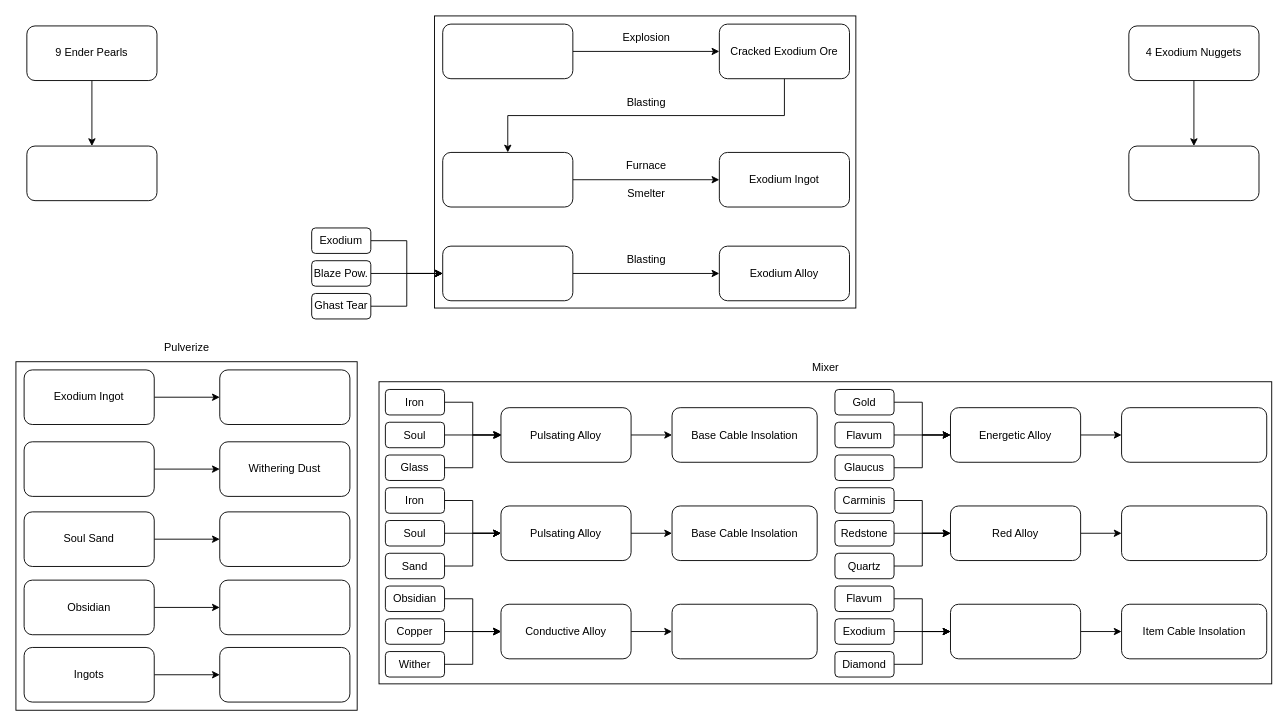
This 1288x726 diagram has some shape labels left out. The shapes that lost their labels are listed below. From the top down, each one's centre as x and y in pixels, then its label:
At pixel 507 51: "Exodium Ore".
At pixel 91 173: "1 Exodium Nugget".
At pixel 507 179: "Raw Exodium".
At pixel 1193 173: "1 Exodium Ingot".
At pixel 507 273: "Raw Exodium Alloy".
At pixel 284 397: "Exodium Dust".
At pixel 1194 434: "Energy Cable Insolation".
At pixel 88 468: "Wither Bone".
At pixel 284 538: "Soul Dust".
At pixel 1194 533: "Redstone Cable Insolation".
At pixel 284 607: "Obsidian Dust".
At pixel 744 631: "Fluid Cable Insolation".
At pixel 1015 631: "Vibrant Alloy".
At pixel 284 674: "Ingot Dust".
